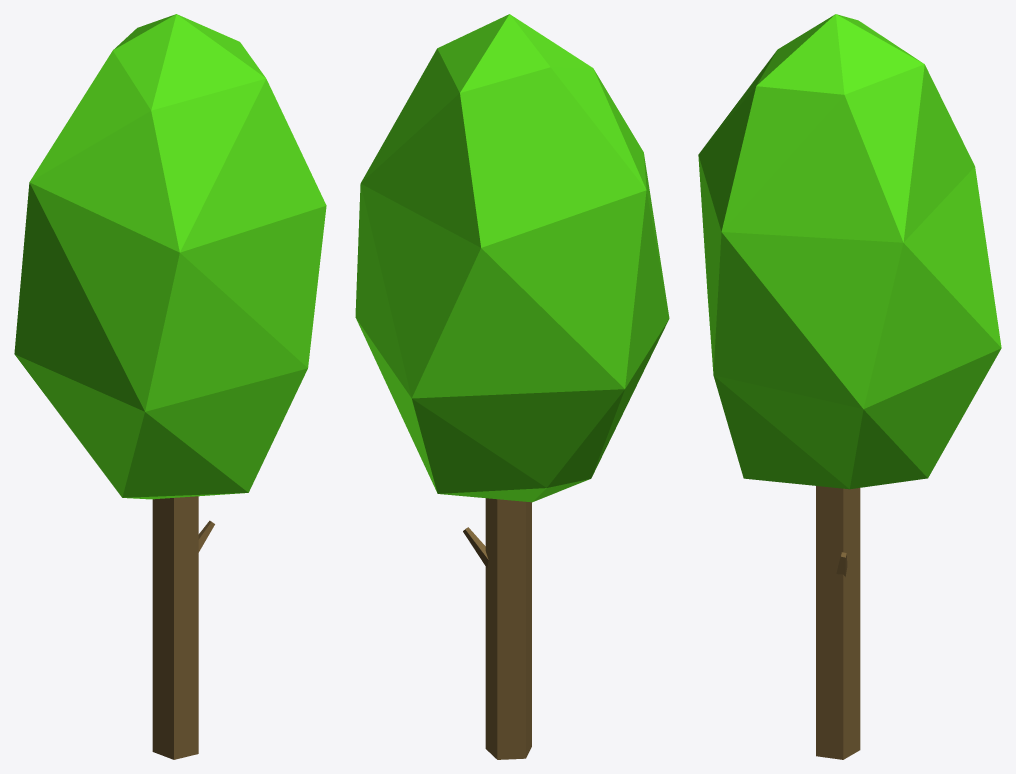
The model's file is Tree01.fbx.
3 renders of one model, left to right at view 1: azimuth 30°, elevation 25°; view 2: azimuth 150°, elevation 25°; view 3: azimuth 270°, elevation 25°, orthographic.
Visible parts, largest first — view 1: tree1; view 2: tree1; view 3: tree1.
Part boxes in pixels (box(x1,y1,x2,y2)): tree1: box(14, 14, 326, 759); tree1: box(355, 14, 669, 759); tree1: box(698, 14, 1001, 759).
Size of the model in its own units: 247 by 616 by 230.
